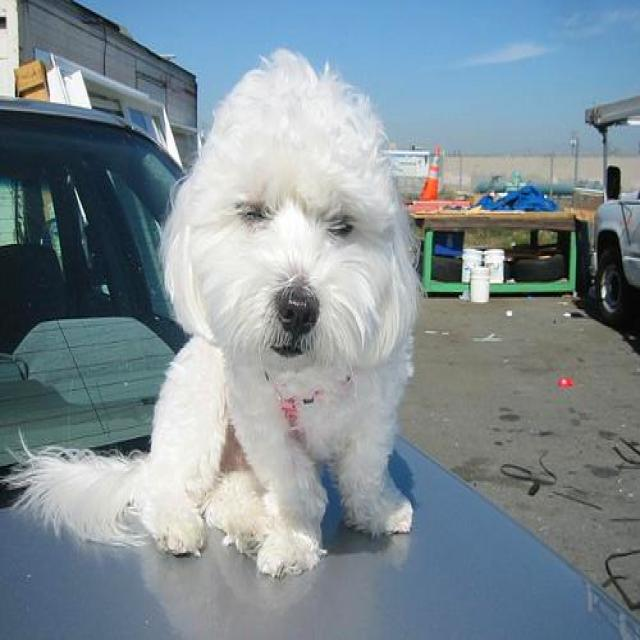maltese_dog: (0, 44, 425, 580)
